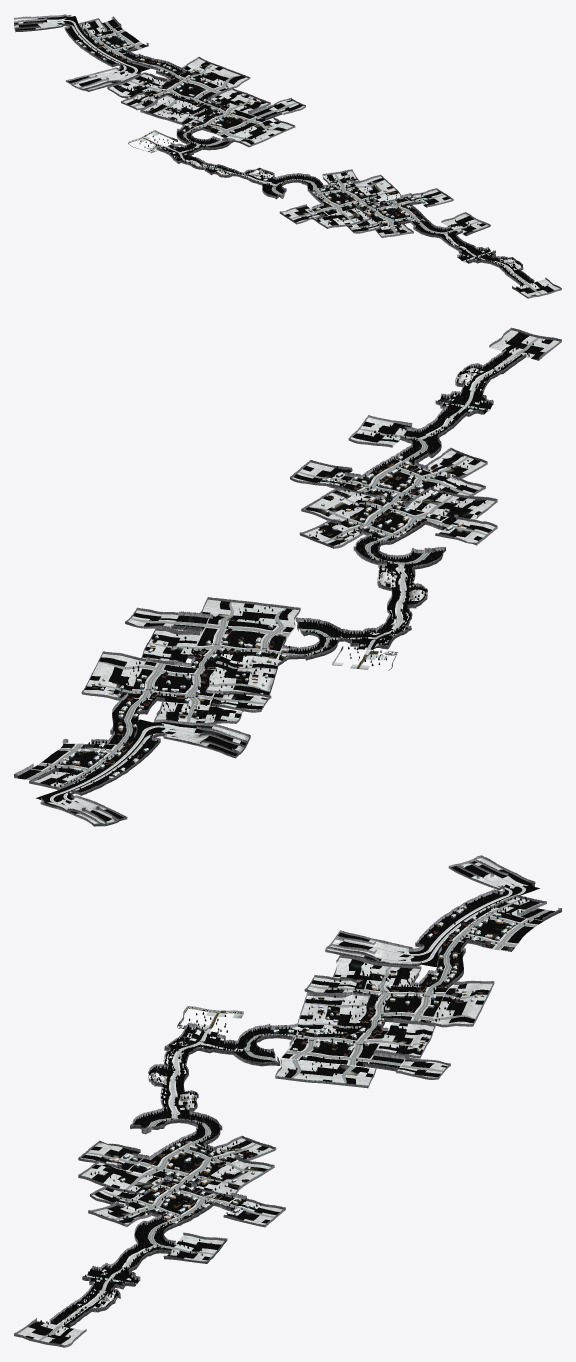
Rendered from sweden_stage6_visual.glb.
3 renders of one model, top to bottom at view 1: azimuth 30°, elevation 25°; view 2: azimuth 150°, elevation 25°; view 3: azimuth 330°, elevation 25°, orthographic. The views are drawn at different scales.
Visible parts, largest first — view 1: Track_Road_And_Terrain, Foliage_And_Vegetation, Buildings_And_Structures; view 2: Track_Road_And_Terrain, Foliage_And_Vegetation, Buildings_And_Structures; view 3: Track_Road_And_Terrain, Foliage_And_Vegetation, Buildings_And_Structures.
Part boxes in pixels (bbox=[...]): Track_Road_And_Terrain: bbox=[14, 14, 559, 296]; Foliage_And_Vegetation: bbox=[66, 18, 561, 298]; Buildings_And_Structures: bbox=[75, 33, 425, 227]; Track_Road_And_Terrain: bbox=[14, 330, 559, 826]; Foliage_And_Vegetation: bbox=[29, 327, 561, 794]; Buildings_And_Structures: bbox=[61, 455, 463, 779]; Track_Road_And_Terrain: bbox=[18, 855, 561, 1345]; Foliage_And_Vegetation: bbox=[14, 890, 546, 1347]; Buildings_And_Structures: bbox=[112, 905, 514, 1223].
Bounding box in the file's own units: 843 × 55.04 × 3211.
Materials: 74 (74 with a texture image).
